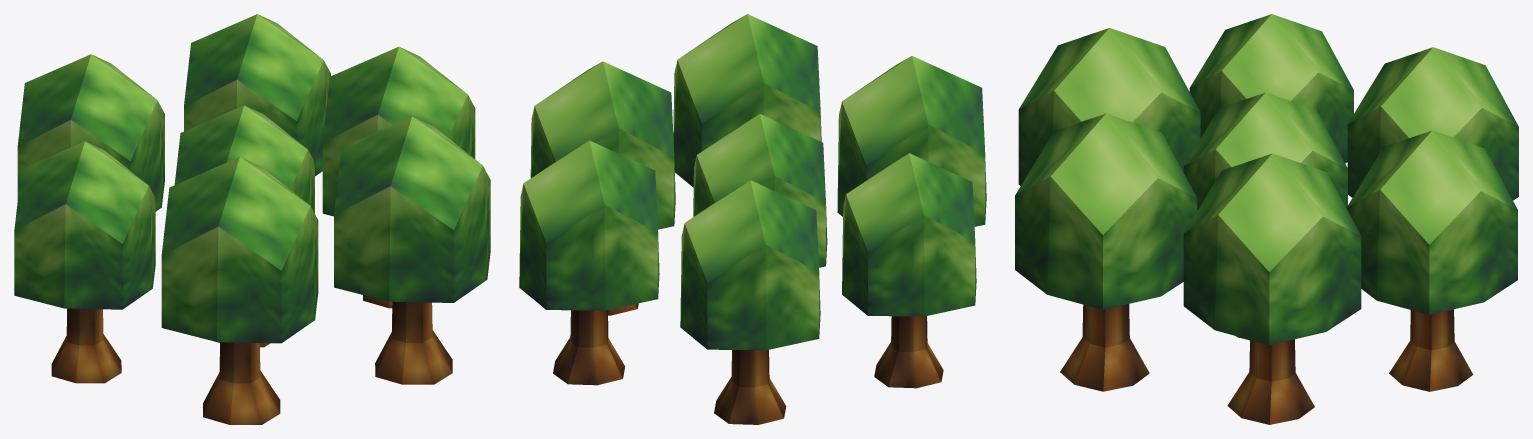
Rendered from Poly_World_Map_Land_Tree_01.obj.
The picture shows the model from 3 angles, left to right: view 1: azimuth 30°, elevation 25°; view 2: azimuth 150°, elevation 25°; view 3: azimuth 270°, elevation 25°; orthographic projection. The views are drawn at different scales.
Parts seen in each view (by area): view 1: Cube.002_Cube.045, Cube.015_Cube.062; view 2: Cube.002_Cube.045, Cube.015_Cube.062; view 3: Cube.002_Cube.045, Cube.015_Cube.062.
Boxes of the visible parts, bbox=[...] form: Cube.002_Cube.045: bbox=[14, 14, 490, 343]; Cube.015_Cube.062: bbox=[51, 295, 452, 424]; Cube.002_Cube.045: bbox=[519, 14, 986, 350]; Cube.015_Cube.062: bbox=[553, 303, 943, 424]; Cube.002_Cube.045: bbox=[1015, 14, 1518, 344]; Cube.015_Cube.062: bbox=[1060, 304, 1473, 424].
Bounding box in the file's own units: 1.16 × 0.6073 × 1.07.
1 material, 1 textured.
